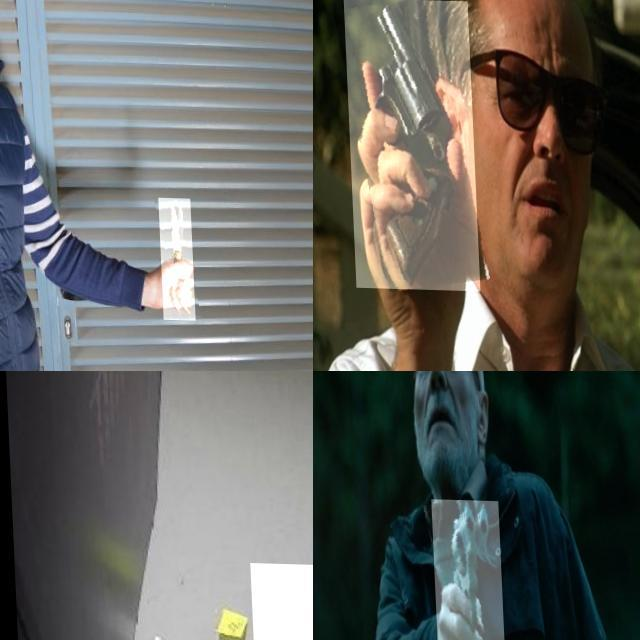-: (156, 196, 192, 318)
gun-knife-thesis - v11 Yolov5 augmented: (342, 0, 476, 290), (428, 497, 502, 640)
